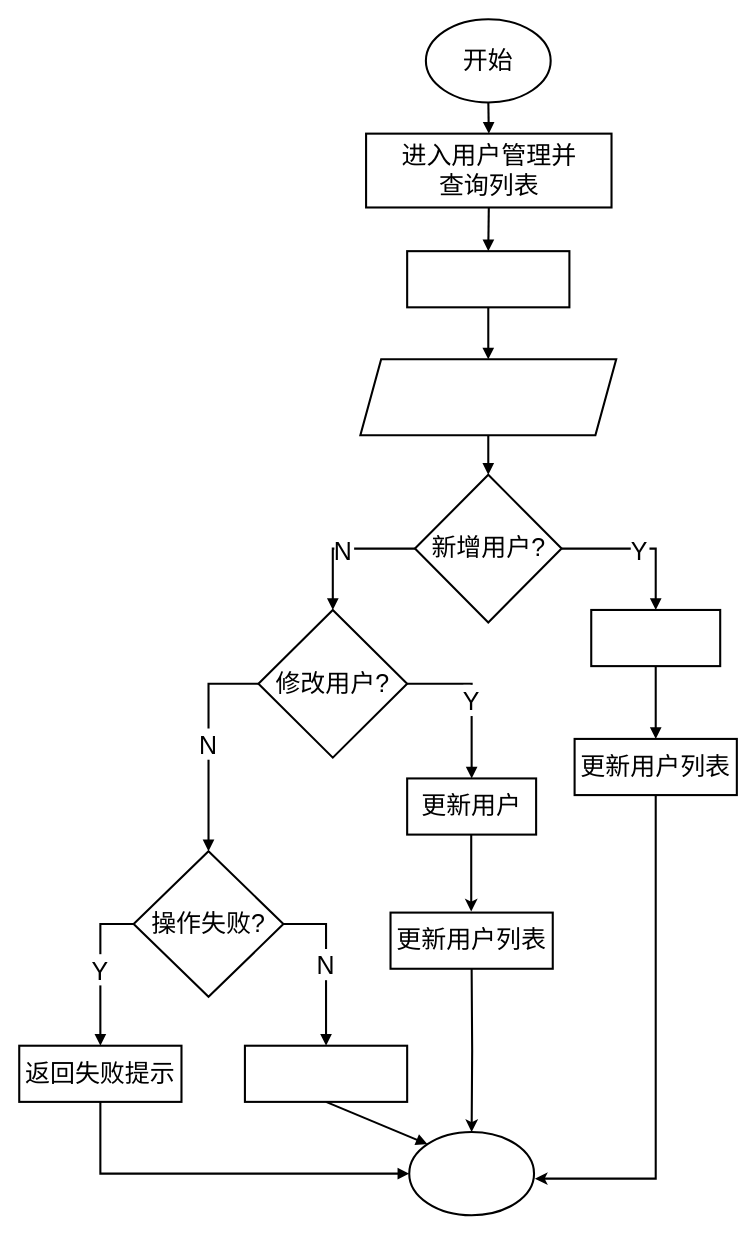
Image size: 755x1233. Some labels were removed from this diagram. Here are the shapes that lost their labels. From the top down, the box of each, then its label:
(406, 250, 570, 308): 查看用户详情
(359, 358, 617, 436): 输入新增或修改的 用户信息
(590, 608, 721, 667): 保存用户
(243, 1044, 408, 1102): 返回成功提示
(408, 1130, 535, 1216): 结束
